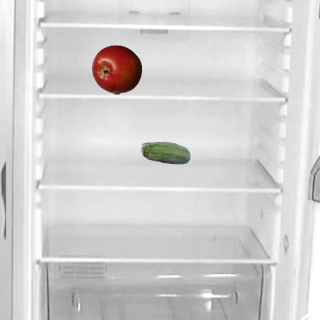Apple Braeburn: (91, 44, 141, 94)
Corn Husk: (140, 129, 190, 179)
